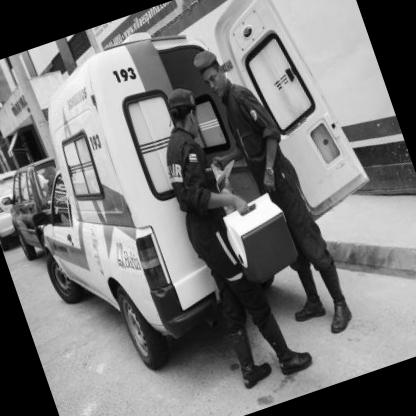car: (1, 1, 390, 387)
